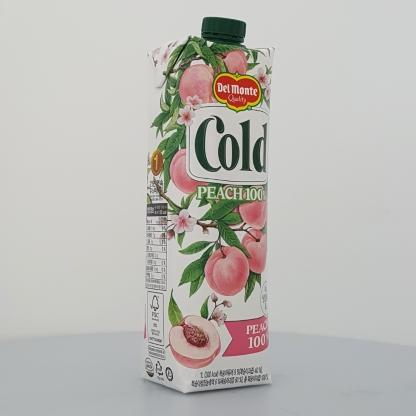-------------100_: (141, 17, 274, 394)
